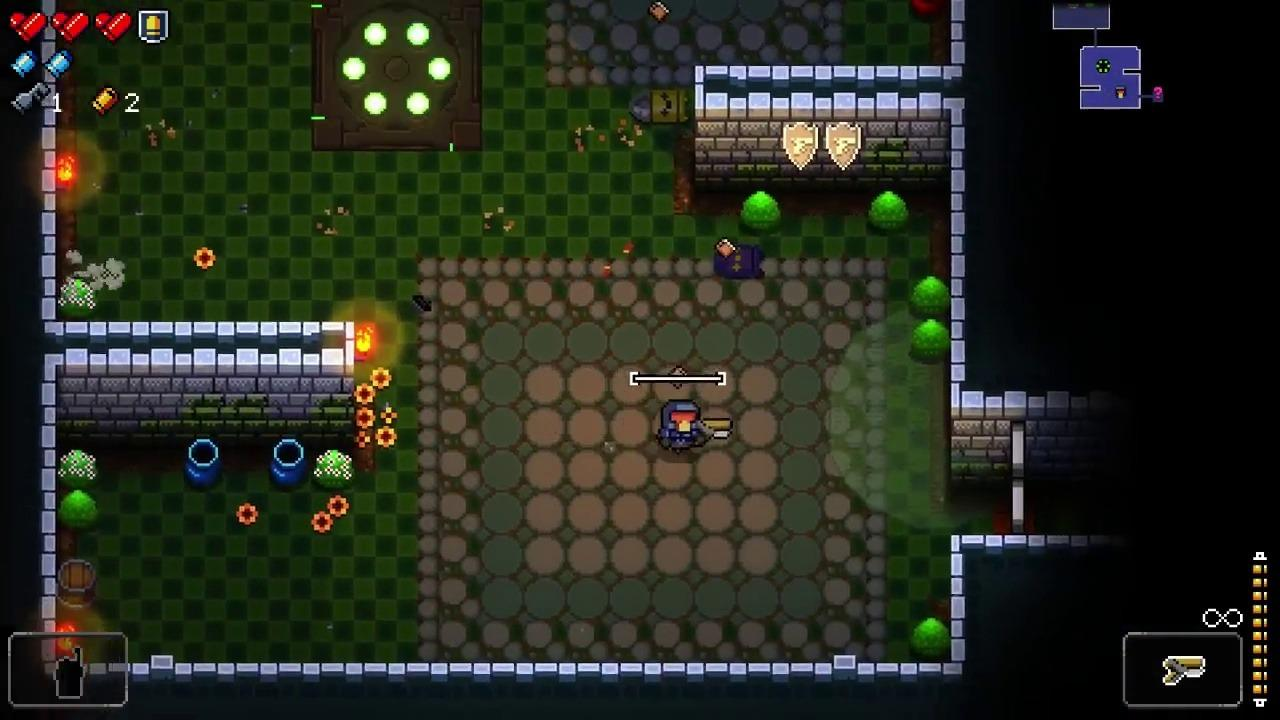dead_bullet_kin: (628, 91, 690, 123)
dead_rubber_kin: (714, 247, 769, 278)
player: (660, 400, 702, 455)
teleporter: (311, 0, 482, 150)
unlocked_door: (1011, 421, 1026, 533)
